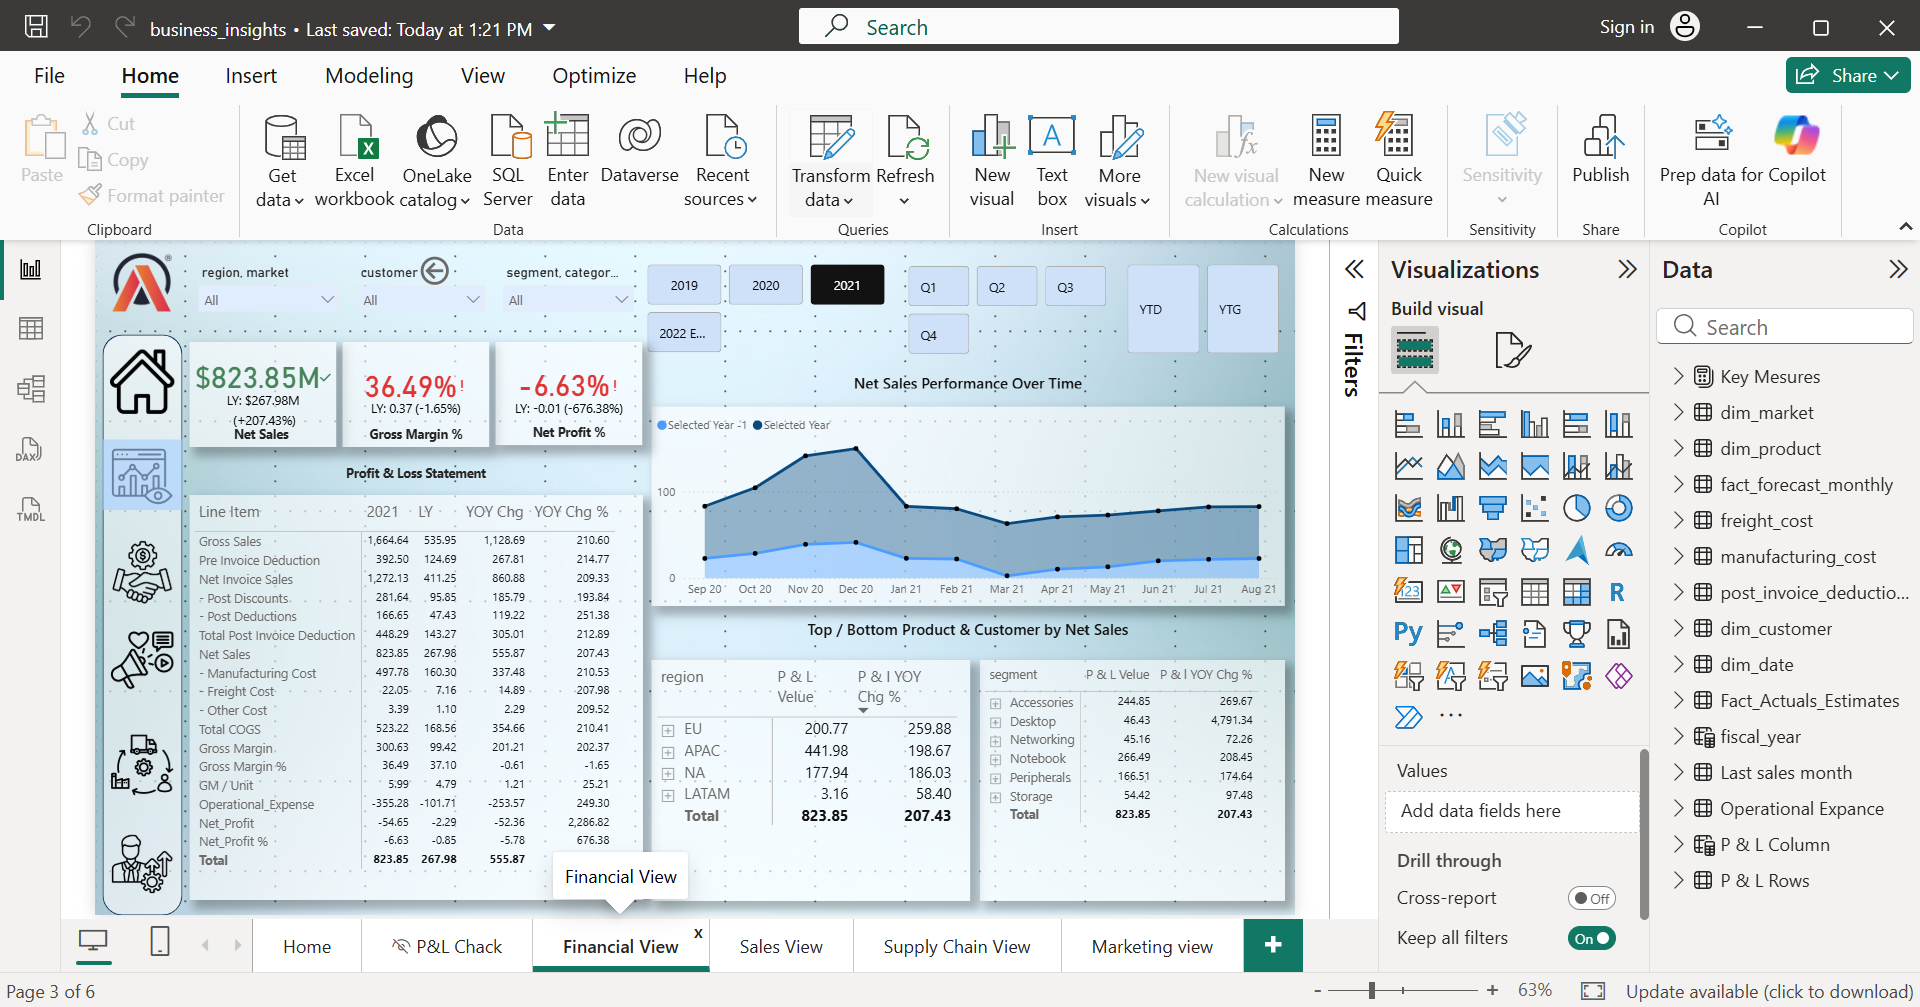

The dashboard page shown, as its layout file describes it:
{"tool":"powerbi","page":{"name":"Financial View","canvas":[1280,720],"ordinal":2},"visuals":[{"type":"advancedSlicerVisual","fields":{"Values":["fiscal_year.FY Desc"]},"box":[583.3,20,264,105.6],"z":0},{"type":"pivotTable","fields":{"Rows":["P & L Rows.Line Item"],"Values":["Key Mesures.Final P & L velue"],"Columns":["P & L Column.Col Header"]},"box":[100.8,272,483.2,432],"z":1000},{"type":"advancedSlicerVisual","fields":{"Values":["dim_date.Quarter"]},"box":[861.7,21.7,223.3,105],"z":2000},{"type":"advancedSlicerVisual","fields":{"Values":["dim_date.YTD_YTG"]},"box":[1096,20.8,172.8,105.6],"z":3000},{"type":"stackedAreaChart","fields":{"Category":["dim_date.Date"],"Y":["Key Mesures.P & L LY","Key Mesures.P & L Velue"]},"box":[593.6,177.6,675.2,212.8],"z":4000},{"type":"pivotTable","fields":{"Rows":[" dim_market.region"," dim_market.market","dim_customer.customer"],"Values":["Key Mesures.P & L Velue","Key Mesures.P & l YOY Chg %"]},"box":[594,448,340,256.7],"z":5000},{"type":"pivotTable","fields":{"Rows":[" dim_product.segment"," dim_product.category"," dim_product.product"],"Values":["Key Mesures.P & L Velue","Key Mesures.P & l YOY Chg %"]},"box":[944,448,325,256.7],"z":6000},{"type":"actionButton","box":[341.7,13.3,100,40],"z":7000},{"type":"cardVisual","fields":{"Data":["Key Mesures.Performace Visual Title"]},"box":[593.6,126.4,675.2,49.6],"z":8000},{"type":"cardVisual","fields":{"Data":["Key Mesures.Top / Bottom  N Title"]},"box":[593.6,379.2,675.2,68.8],"z":9000},{"type":"textbox","box":[100.8,233.6,483.2,38.4],"z":10000},{"type":"slicer","fields":{"Values":[" dim_market.region"," dim_market.market"]},"box":[100.8,20.8,169.6,65.6],"z":11000},{"type":"slicer","fields":{"Values":[" dim_product.segment"," dim_product.category"," dim_product.product"]},"box":[425.6,20.8,158.4,65.6],"z":12000},{"type":"slicer","fields":{"Values":["dim_customer.customer"]},"box":[270.4,20.8,155.2,65.6],"z":13000},{"type":"kpi","fields":{"Indicator":["Key Mesures.Net Sales $"],"Goal":["Key Mesures.Net Sales LY"],"TrendLine":[" freight_cost.fiscal_year"]},"box":[100,108.3,156.7,111.7],"z":14000},{"type":"textbox","box":[100,191.7,156.7,28.3],"z":15000},{"type":"kpi","fields":{"Goal":["Key Mesures.Gross Margin % LY"],"TrendLine":[" freight_cost.fiscal_year"],"Indicator":["Key Mesures.Gross Margin %"]},"box":[263.3,108.3,156.7,111.7],"z":16000},{"type":"kpi","fields":{"TrendLine":[" freight_cost.fiscal_year"],"Indicator":["Key Mesures.Net_Profit %"],"Goal":["Key Mesures.Net Profit % LY"]},"box":[426.7,108.3,156.7,110],"z":17000},{"type":"textbox","box":[263.3,191.7,156.7,28.3],"z":18000},{"type":"textbox","box":[426.7,190,156.7,28.3],"z":19000},{"type":"shape","box":[8.2,100,85.2,619.7],"z":20000},{"type":"image","box":[8.2,13.1,85.2,63.9],"z":21000},{"type":"image","box":[16.4,213.1,68.9,78.7],"z":22000},{"type":"image","box":[16.4,116.4,68.9,68.9],"z":23000},{"type":"image","box":[16.4,411.5,68.9,73.8],"z":24000},{"type":"image","box":[16.4,318,68.9,72.1],"z":25000},{"type":"image","box":[16.4,521.3,68.9,77],"z":26000},{"type":"image","box":[16.4,627.9,68.9,77],"z":27000},{"type":"shape","box":[8.2,213.1,85.2,75.4],"z":28000}]}

Visuals, with their boxes on the page's 1280x720 design canvas (x1, y1, x2, y2). These are canvas units, not pixel positions in the 1920x1007 screenshot, which may show the page scaled, cropped or inside an application window:
advancedSlicerVisual - fiscal_year.FY Desc: <box>583,20,847,126</box>
pivotTable - P & L Rows.Line Item x Key Mesures.Final P & L velue: <box>101,272,584,704</box>
advancedSlicerVisual - dim_date.Quarter: <box>862,22,1085,127</box>
advancedSlicerVisual - dim_date.YTD_YTG: <box>1096,21,1269,126</box>
stackedAreaChart - dim_date.Date x Key Mesures.P & L LY: <box>594,178,1269,390</box>
pivotTable -  dim_market.region x  dim_market.market: <box>594,448,934,705</box>
pivotTable -  dim_product.segment x  dim_product.category: <box>944,448,1269,705</box>
actionButton: <box>342,13,442,53</box>
cardVisual - Key Mesures.Performace Visual Title: <box>594,126,1269,176</box>
cardVisual - Key Mesures.Top / Bottom  N Title: <box>594,379,1269,448</box>
textbox: <box>101,234,584,272</box>
slicer -  dim_market.region x  dim_market.market: <box>101,21,270,86</box>
slicer -  dim_product.segment x  dim_product.category: <box>426,21,584,86</box>
slicer - dim_customer.customer: <box>270,21,426,86</box>
kpi - Key Mesures.Net Sales $ x Key Mesures.Net Sales LY: <box>100,108,257,220</box>
textbox: <box>100,192,257,220</box>
kpi - Key Mesures.Gross Margin % LY x  freight_cost.fiscal_year: <box>263,108,420,220</box>
kpi -  freight_cost.fiscal_year x Key Mesures.Net_Profit %: <box>427,108,583,218</box>
textbox: <box>263,192,420,220</box>
textbox: <box>427,190,583,218</box>
shape: <box>8,100,93,720</box>
image: <box>8,13,93,77</box>
image: <box>16,213,85,292</box>
image: <box>16,116,85,185</box>
image: <box>16,412,85,485</box>
image: <box>16,318,85,390</box>
image: <box>16,521,85,598</box>
image: <box>16,628,85,705</box>
shape: <box>8,213,93,288</box>
